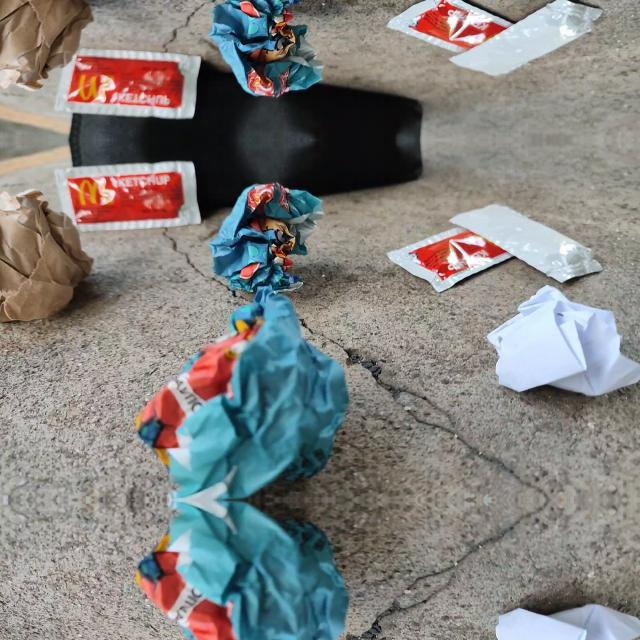paper: (126, 286, 352, 500), (126, 499, 351, 640), (484, 285, 640, 415), (202, 164, 324, 306), (0, 180, 94, 336), (202, 0, 324, 116), (0, 0, 93, 99), (484, 585, 640, 640)
